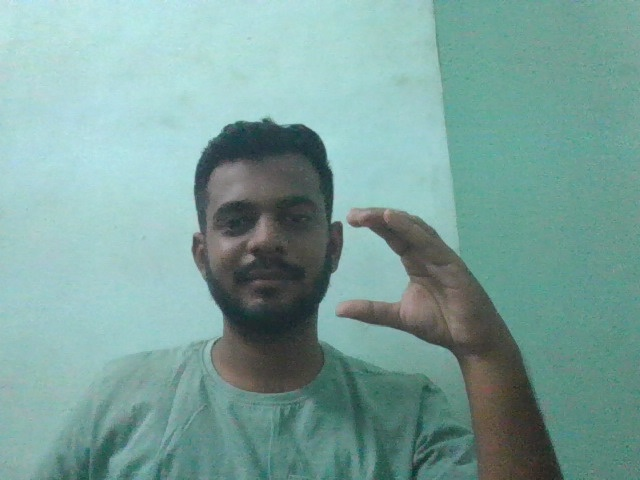no: (332, 203, 510, 354)
